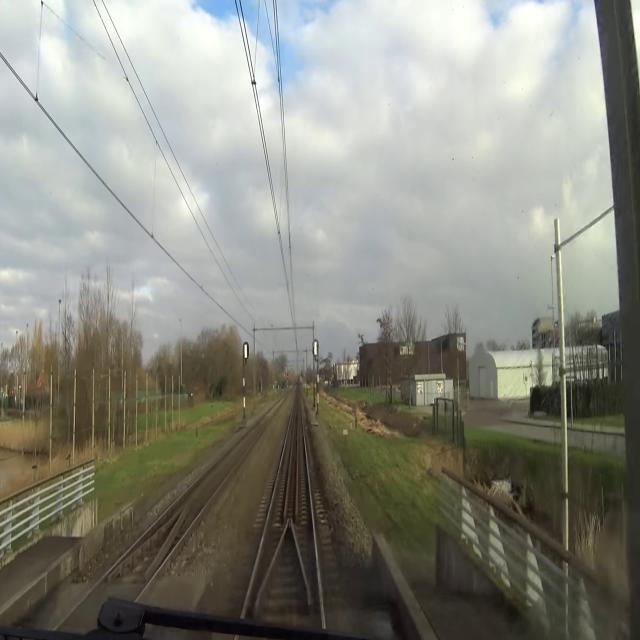rail-track: (244, 397, 321, 629), (163, 414, 269, 556), (51, 531, 166, 639)
